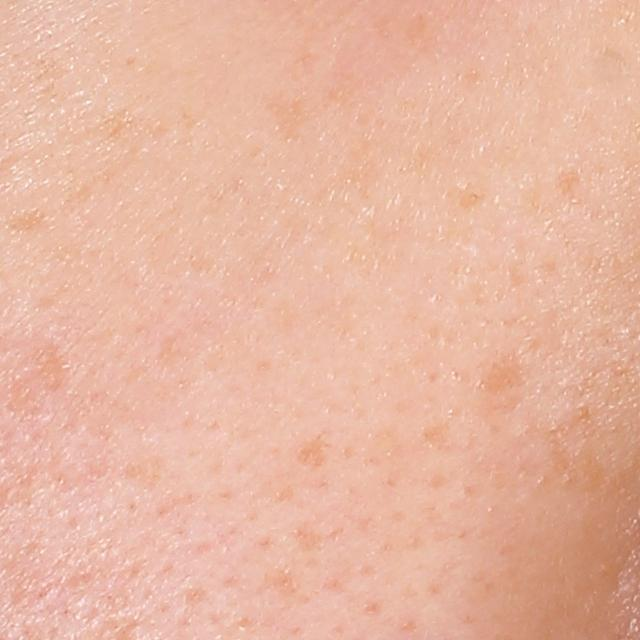melasma: (265, 98, 310, 143), (480, 357, 523, 402)
